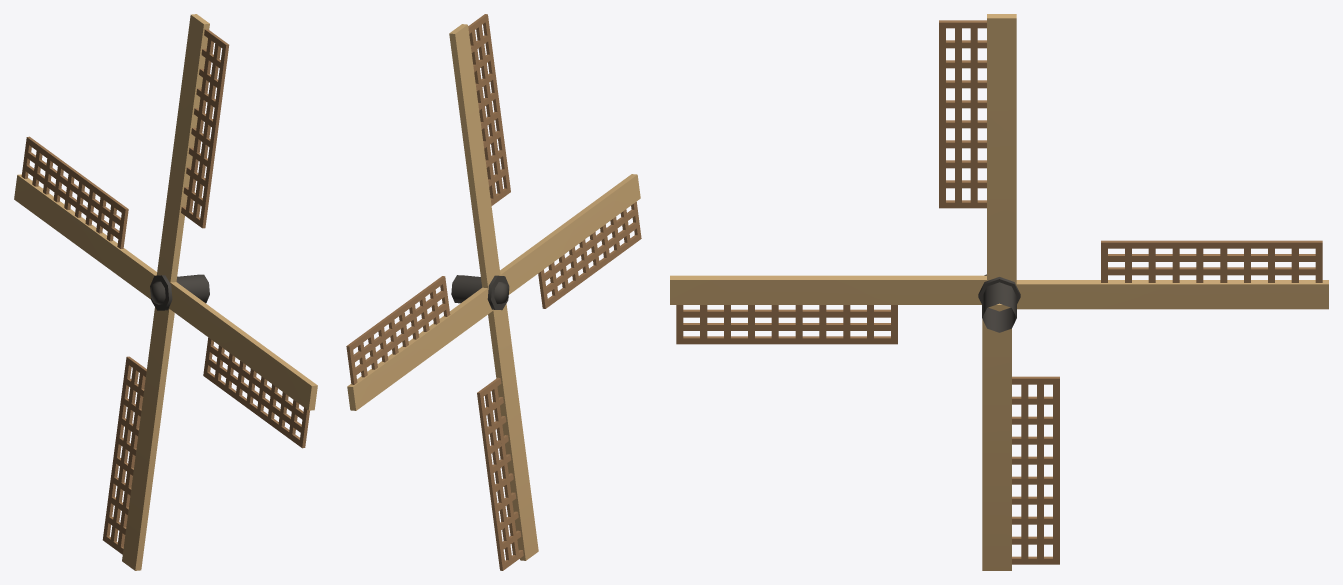
File: windmill_part.fbx
3 renders of one model, left to right at view 1: azimuth 30°, elevation 25°; view 2: azimuth 150°, elevation 25°; view 3: azimuth 270°, elevation 25°, orthographic. The views are drawn at different scales.
Parts seen in each view (by area): view 1: windmill_part; view 2: windmill_part; view 3: windmill_part.
Part boxes in pixels (x1=…): windmill_part: x1=14, y1=14, x2=317, y2=570; windmill_part: x1=346, y1=14, x2=641, y2=570; windmill_part: x1=670, y1=14, x2=1328, y2=570.
Size of the model in its own units: 3.39 by 22.24 by 22.42.
